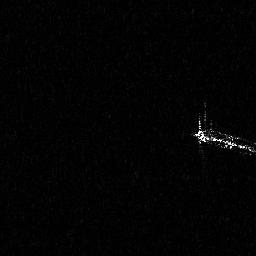ship: (192, 102, 256, 164)
